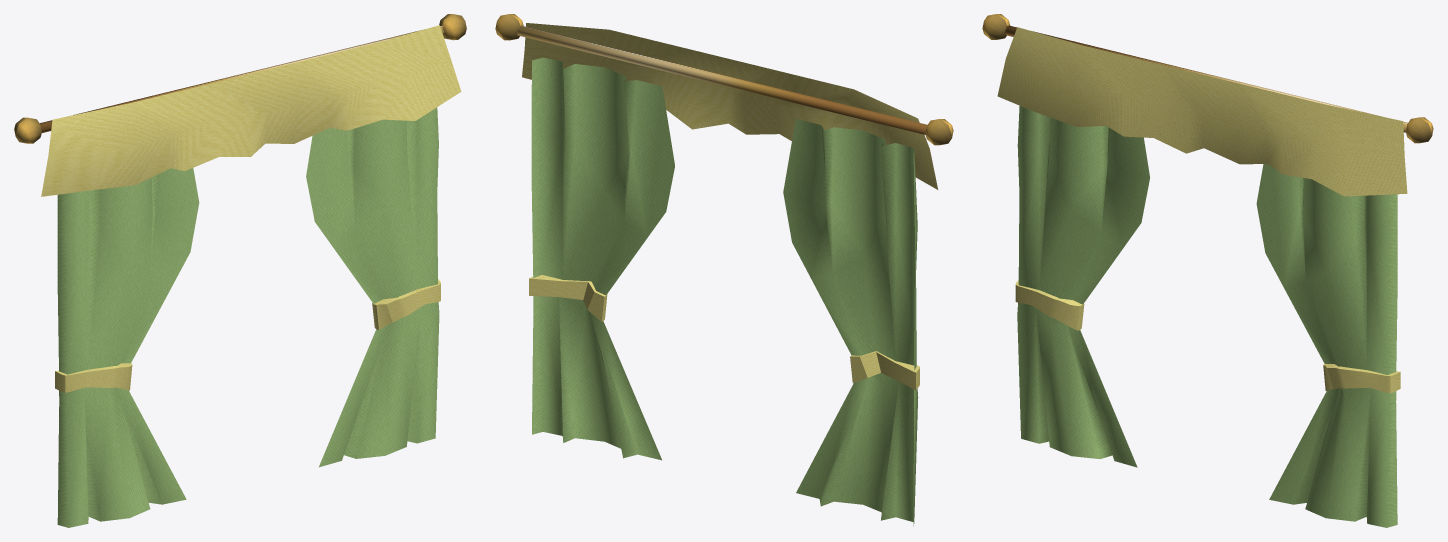
File: Curtains_01_B.FBX
The picture shows the model from 3 angles, left to right: view 1: azimuth 30°, elevation 25°; view 2: azimuth 150°, elevation 25°; view 3: azimuth 330°, elevation 25°; orthographic projection.
Visible parts, largest first — view 1: Curtains_01; view 2: Curtains_01; view 3: Curtains_01.
Boxes of the visible parts, bbox=[...] form: Curtains_01: bbox=[14, 14, 466, 527]; Curtains_01: bbox=[495, 14, 953, 526]; Curtains_01: bbox=[982, 14, 1433, 527].
Size of the model in its own units: 251 by 221 by 25.59.
